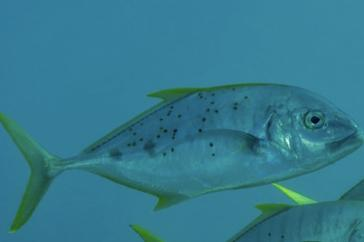Carangidae -Jacks-: (0, 74, 364, 237)
